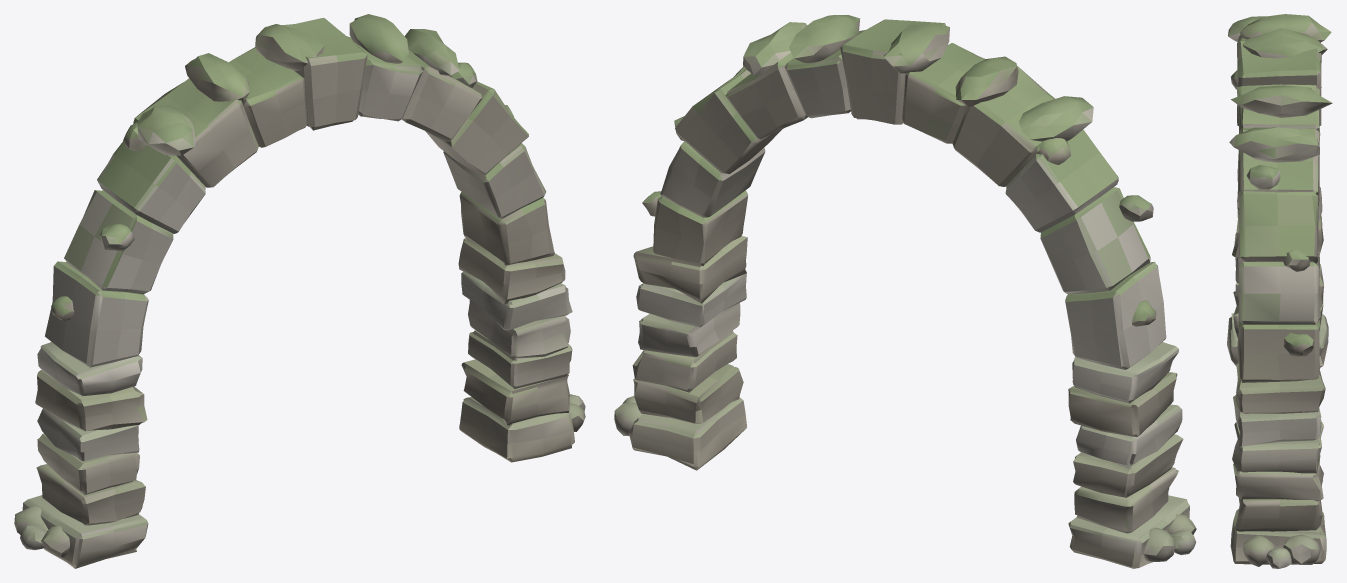
The model's file is cavern_mouth.glb.
The picture shows the model from 3 angles, left to right: view 1: azimuth 30°, elevation 25°; view 2: azimuth 150°, elevation 25°; view 3: azimuth 270°, elevation 25°; orthographic projection. The views are drawn at different scales.
Visible parts, largest first — view 1: cavern_mouth; view 2: cavern_mouth; view 3: cavern_mouth.
Part boxes in pixels (box(x1,y1,x2,y2)): cavern_mouth: box(14, 14, 585, 568); cavern_mouth: box(614, 15, 1196, 568); cavern_mouth: box(1227, 14, 1332, 568).
Size of the model in its own units: 105 by 81.99 by 19.17.
